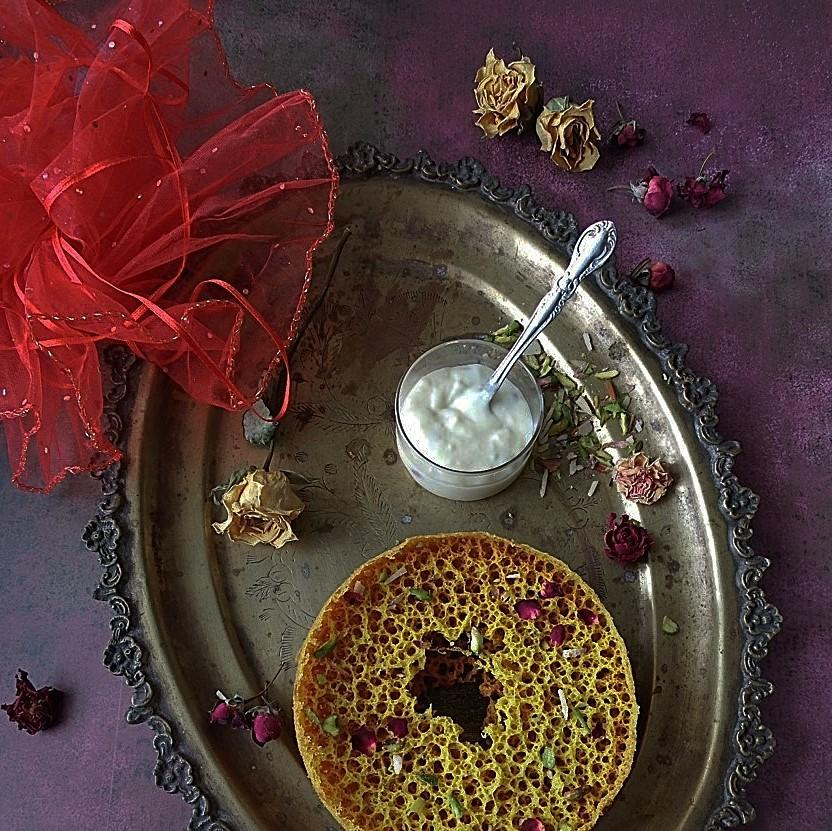Ghevar: (289, 530, 638, 830)
